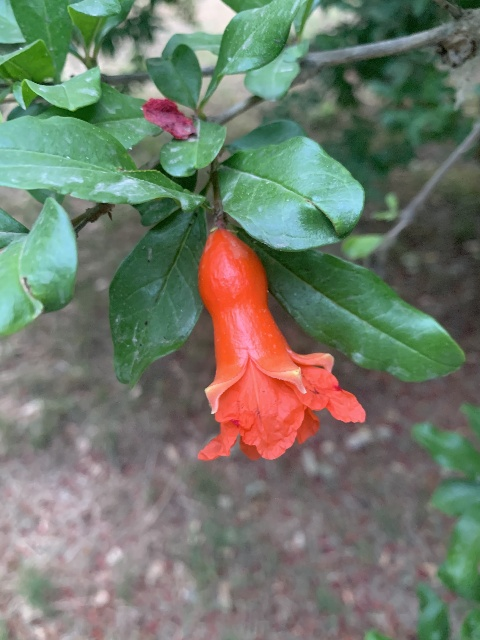flower: (195, 227, 364, 463)
